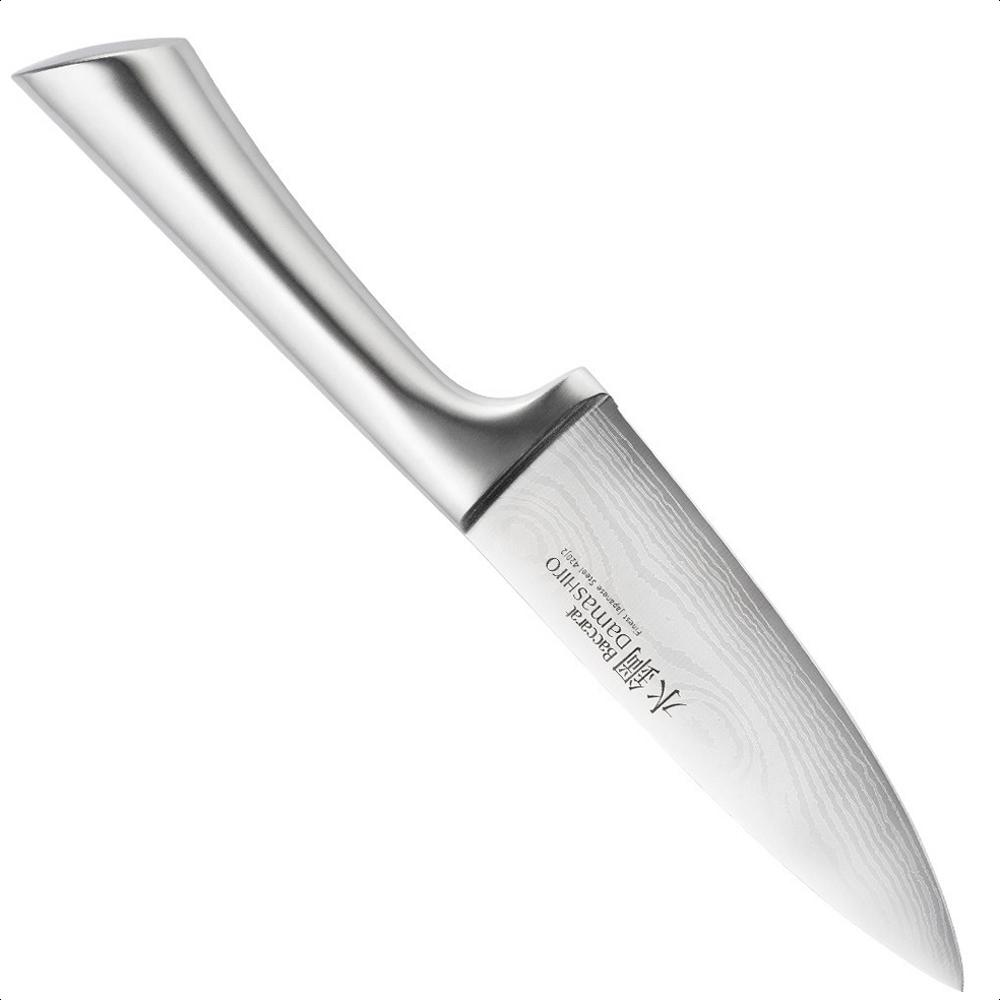knife: (14, 34, 970, 1000)
